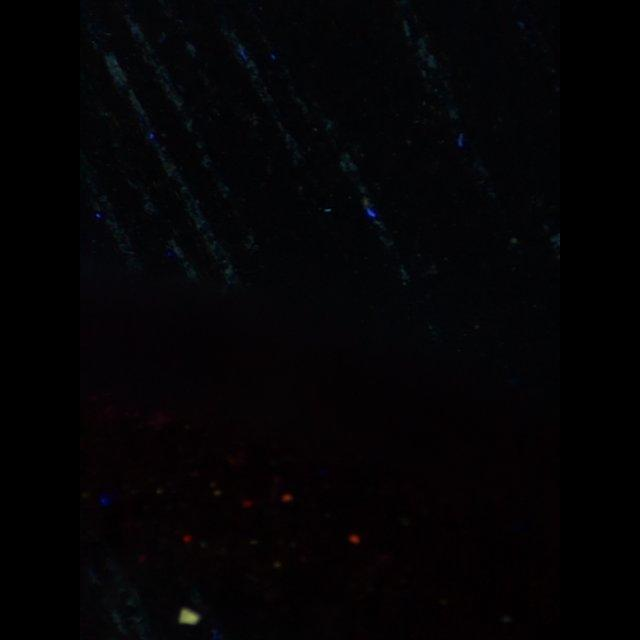microbeads: (178, 608, 200, 626)
